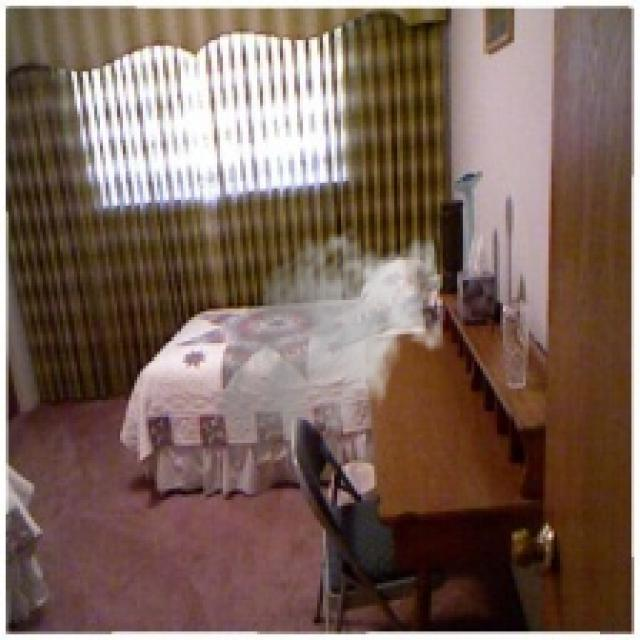Smoke: (211, 223, 446, 474)
